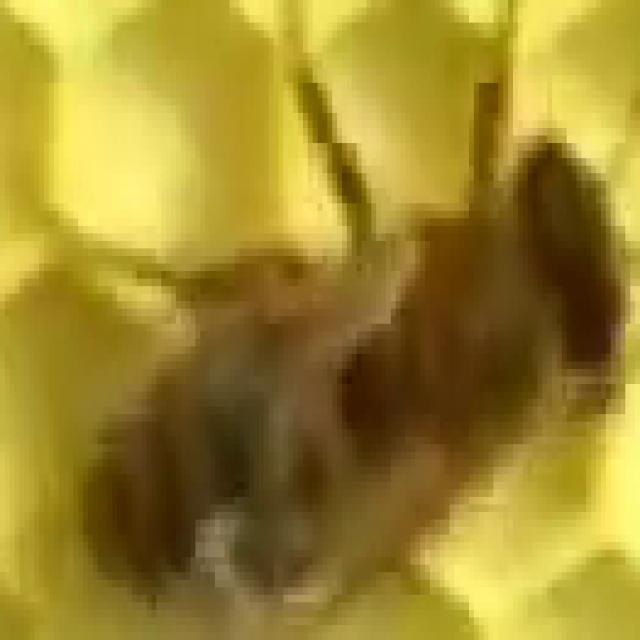honeybee: (75, 98, 640, 640)
